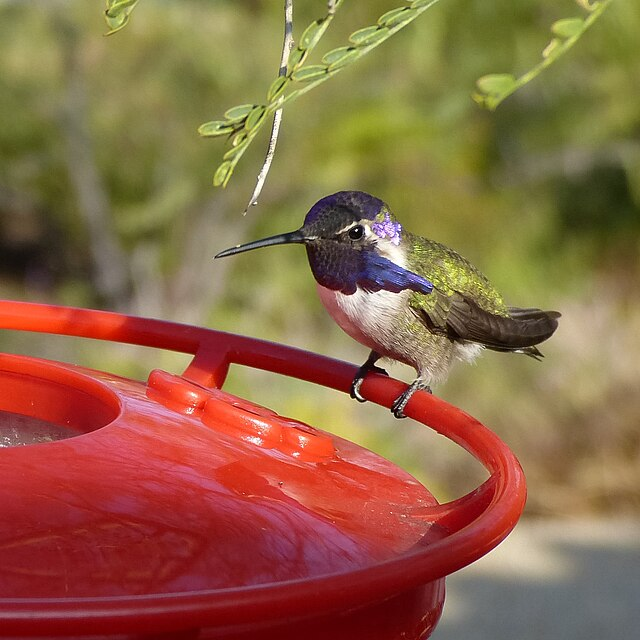calypte costae: (212, 187, 561, 422)
